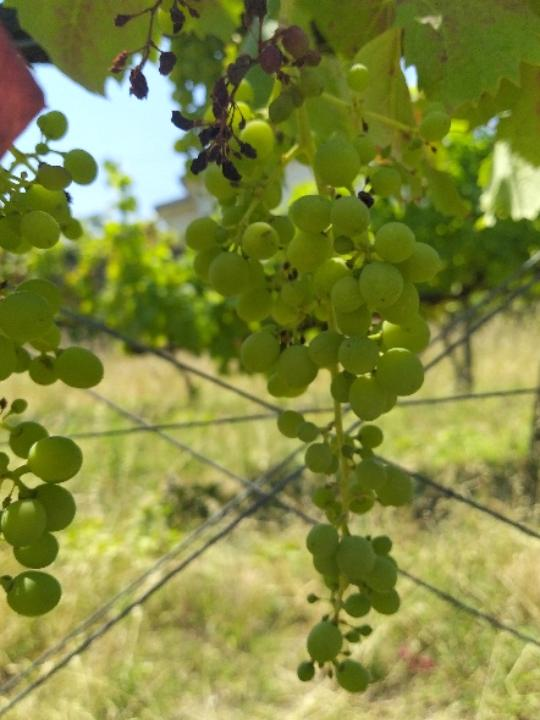grape: (183, 178, 469, 696), (0, 107, 104, 650), (105, 0, 323, 188)
